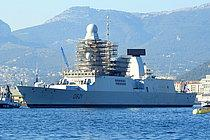MIL_Ship: (16, 24, 196, 108)
